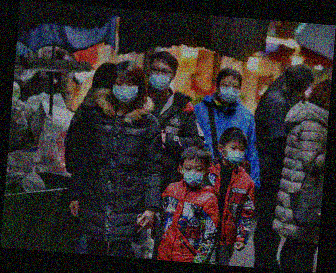with_mask: (110, 78, 140, 106), (148, 65, 172, 93), (181, 161, 205, 188), (217, 79, 240, 107), (226, 142, 247, 165)
